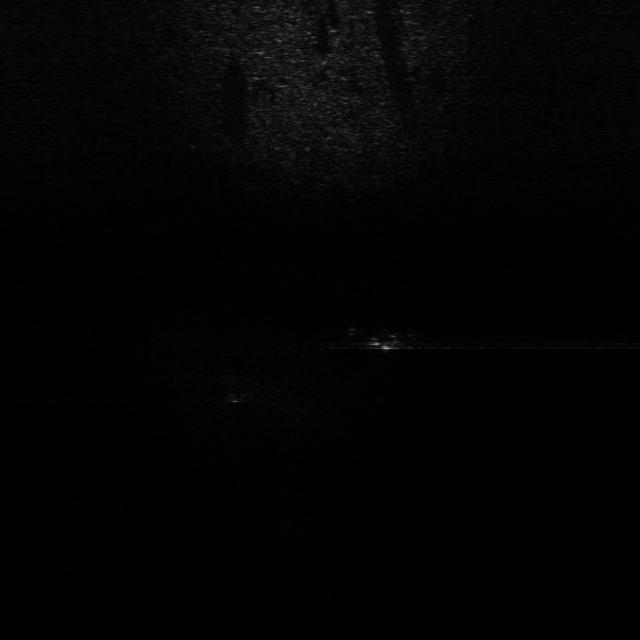ball: (218, 378, 252, 404)
human body: (327, 317, 421, 357)
